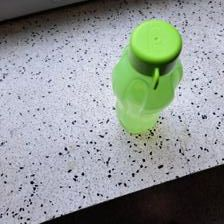bottle: (109, 18, 184, 138)
